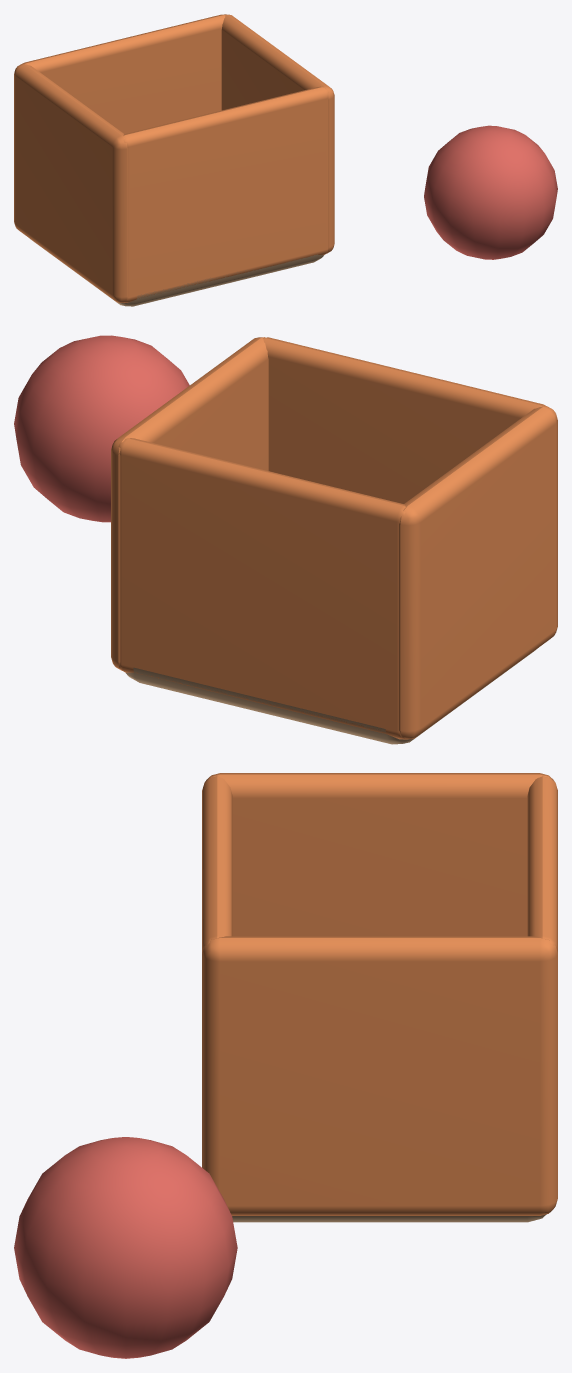
The model's file is ava-position-outside.glb.
3 views of the same model, one above another, from view 1: azimuth 30°, elevation 25°; view 2: azimuth 150°, elevation 25°; view 3: azimuth 270°, elevation 25° (orthographic). The views are drawn at different scales.
Parts seen in each view (by area): view 1: box side.002, box side, box side.003, location ball, box side.001, box floor; view 2: box side.003, box side, box side.002, location ball, box side.001, box floor; view 3: box side.001, box side, location ball, box side.002, box side.003, box floor.
Part boxes in pixels (x1,y1,x2,y2): box side.002: [123, 86, 328, 302]; box side: [14, 63, 127, 302]; box side.003: [23, 14, 225, 133]; location ball: [424, 125, 557, 259]; box side.001: [221, 14, 334, 253]; box floor: [30, 239, 323, 306]; box side.003: [118, 438, 405, 739]; box side: [399, 406, 557, 739]; box side.002: [263, 337, 545, 503]; location ball: [14, 335, 189, 522]; box side.001: [111, 337, 268, 670]; box floor: [126, 649, 536, 744]; box side.001: [202, 936, 557, 1215]; box side: [204, 773, 555, 936]; location ball: [14, 1137, 237, 1358]; box side.002: [202, 776, 232, 953]; box side.003: [527, 776, 557, 953]; box floor: [232, 1214, 546, 1222].
Bounding box in the file's own units: 1.53 × 0.65 × 1.07.
